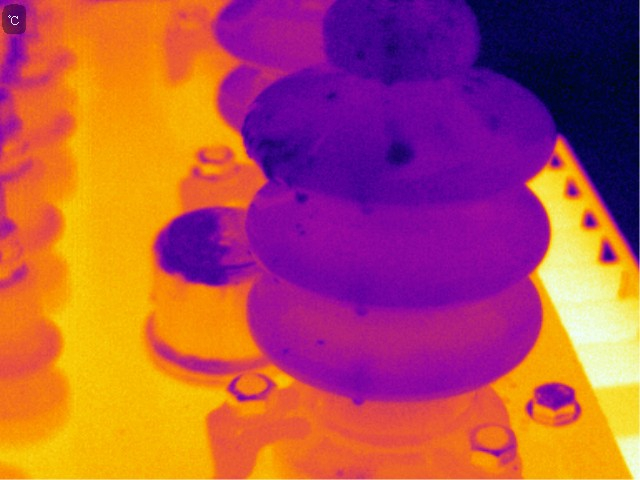Water: (253, 138, 298, 180), (378, 35, 404, 88), (384, 140, 416, 167), (460, 75, 492, 97), (353, 192, 375, 219), (485, 114, 505, 134), (352, 304, 372, 321), (348, 393, 369, 409), (377, 13, 398, 28), (352, 47, 369, 62), (293, 222, 307, 240), (293, 192, 312, 205), (322, 91, 340, 101), (281, 344, 292, 356), (315, 337, 326, 346)
